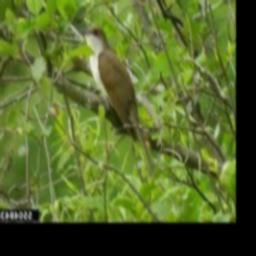Cuckoo: (81, 28, 154, 176)
